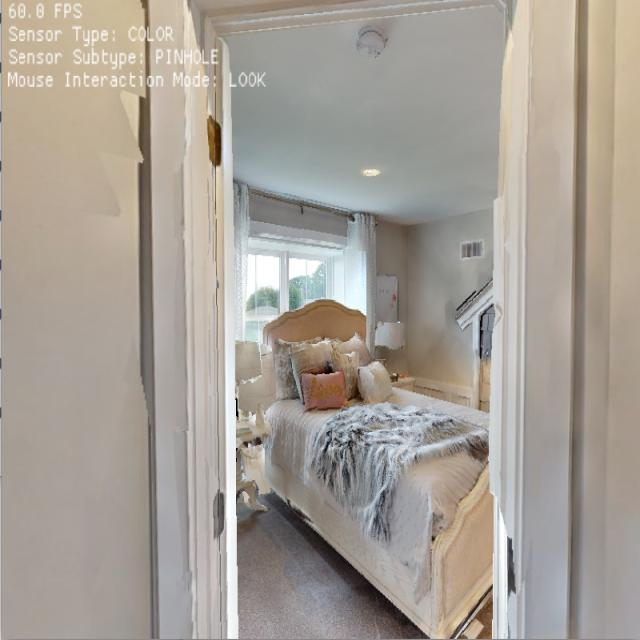bed: (240, 258, 494, 631)
door-frame: (143, 0, 568, 637)
